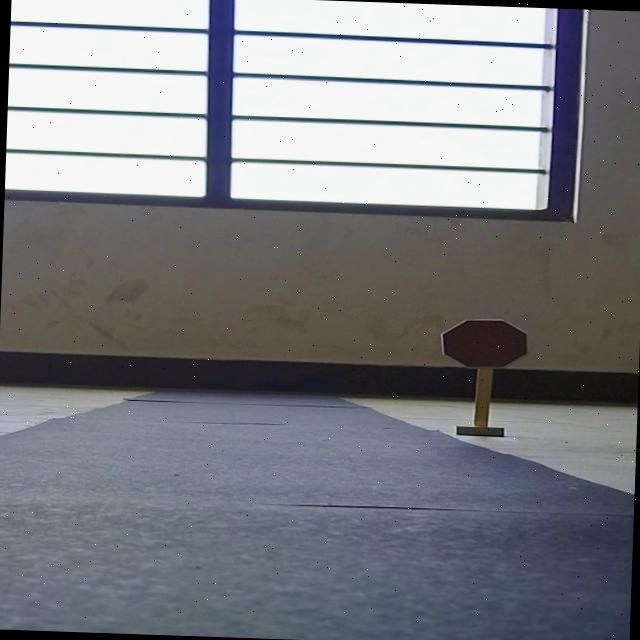Stop: (439, 316, 530, 371)
